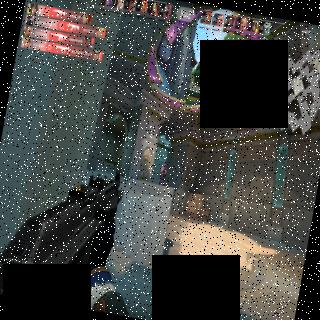ENEMY-BODY: (158, 162, 168, 186)
ENEMY-HEAD: (163, 163, 166, 168)
